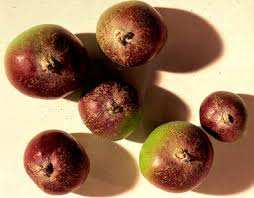damaged_apple: (5, 27, 88, 103), (137, 120, 216, 193), (97, 1, 171, 68), (22, 130, 94, 191), (74, 80, 141, 142), (199, 91, 250, 142)
